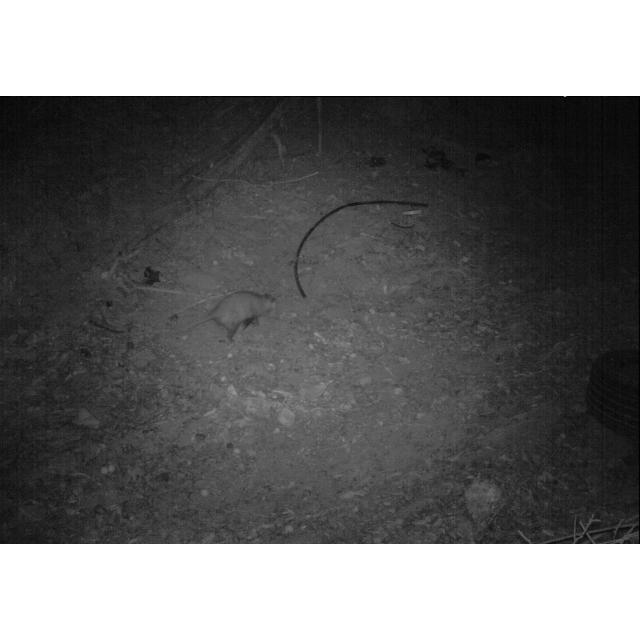animals: (162, 286, 280, 338)
